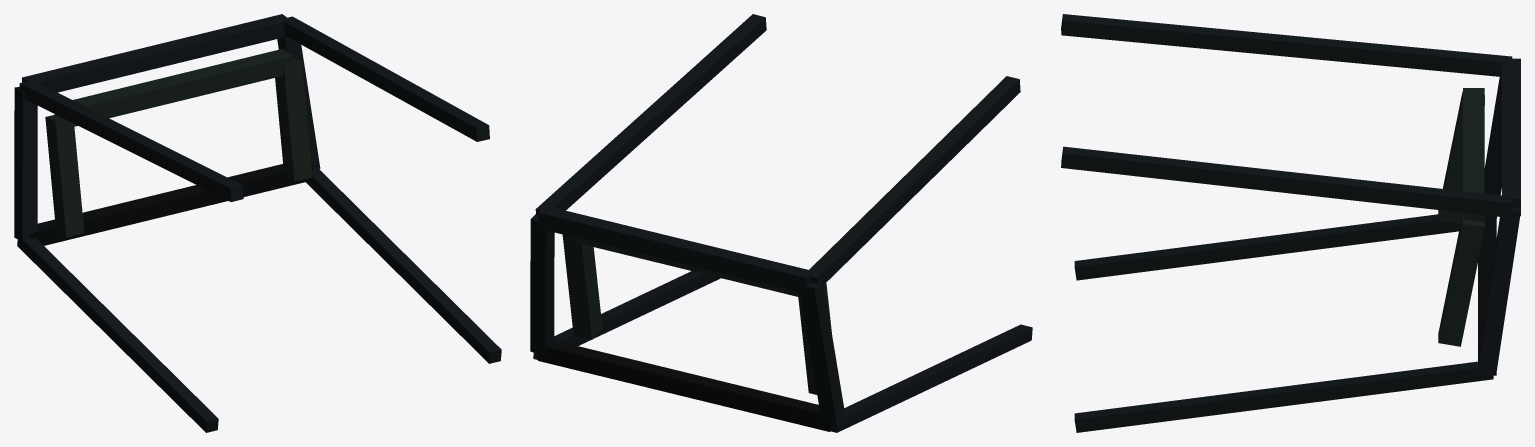
The model's file is Cockpit_DropPod__Frame.obj.
3 views of the same model, side by side, from view 1: azimuth 30°, elevation 25°; view 2: azimuth 150°, elevation 25°; view 3: azimuth 270°, elevation 25° (orthographic). The views are drawn at different scales.
Parts seen in each view (by area): view 1: Windscreen_brow, Armored_header, Cabin_lower_rail, Cabin_lower_rail.001, Canopy_roof_rail, Windscreen_sill, Canopy_roof_rail.001, Canopy_A_pillar, Armored_window_inset, Armored_window_inset.001, Canopy_A_pillar.001; view 2: Windscreen_sill, Windscreen_brow, Canopy_roof_rail.001, Canopy_roof_rail, Cabin_lower_rail, Canopy_A_pillar, Canopy_A_pillar.001, Armored_window_inset.001, Cabin_lower_rail.001, Armored_header, Armored_window_inset; view 3: Canopy_roof_rail.001, Canopy_roof_rail, Cabin_lower_rail.001, Cabin_lower_rail, Canopy_A_pillar.001, Armored_window_inset.001, Windscreen_brow, Armored_header, Windscreen_sill, Canopy_A_pillar, Armored_window_inset.
Boxes of the visible parts, <box> form: Windscreen_brow: <box>22,14,290,92</box>; Armored_header: <box>54,49,292,126</box>; Cabin_lower_rail: <box>17,238,218,432</box>; Cabin_lower_rail.001: <box>305,169,501,363</box>; Canopy_roof_rail: <box>19,81,243,201</box>; Windscreen_sill: <box>29,164,313,245</box>; Canopy_roof_rail.001: <box>284,16,489,141</box>; Canopy_A_pillar: <box>14,86,37,241</box>; Armored_window_inset: <box>45,115,84,237</box>; Armored_window_inset.001: <box>275,57,312,181</box>; Canopy_A_pillar.001: <box>277,29,320,169</box>; Windscreen_sill: <box>538,340,831,431</box>; Windscreen_brow: <box>538,206,814,293</box>; Canopy_roof_rail.001: <box>535,14,766,215</box>; Canopy_roof_rail: <box>809,76,1020,284</box>; Cabin_lower_rail: <box>830,324,1032,432</box>; Canopy_A_pillar: <box>800,279,845,426</box>; Canopy_A_pillar.001: <box>530,214,554,355</box>; Armored_window_inset.001: <box>562,234,602,339</box>; Cabin_lower_rail.001: <box>533,271,720,359</box>; Armored_header: <box>571,237,800,297</box>; Armored_window_inset: <box>798,283,831,394</box>; Canopy_roof_rail.001: <box>1061,146,1512,216</box>; Canopy_roof_rail: <box>1061,14,1512,76</box>; Cabin_lower_rail.001: <box>1074,361,1493,432</box>; Cabin_lower_rail: <box>1074,214,1460,280</box>; Canopy_A_pillar.001: <box>1478,207,1520,371</box>; Armored_window_inset.001: <box>1438,214,1484,346</box>; Windscreen_brow: <box>1502,58,1520,215</box>; Armored_header: <box>1463,88,1484,222</box>; Windscreen_sill: <box>1478,215,1496,375</box>; Canopy_A_pillar: <box>1484,72,1501,218</box>; Armored_window_inset: <box>1438,91,1484,223</box>.
Bounding box in the file's own units: 1.41 × 1.11 × 1.71.
